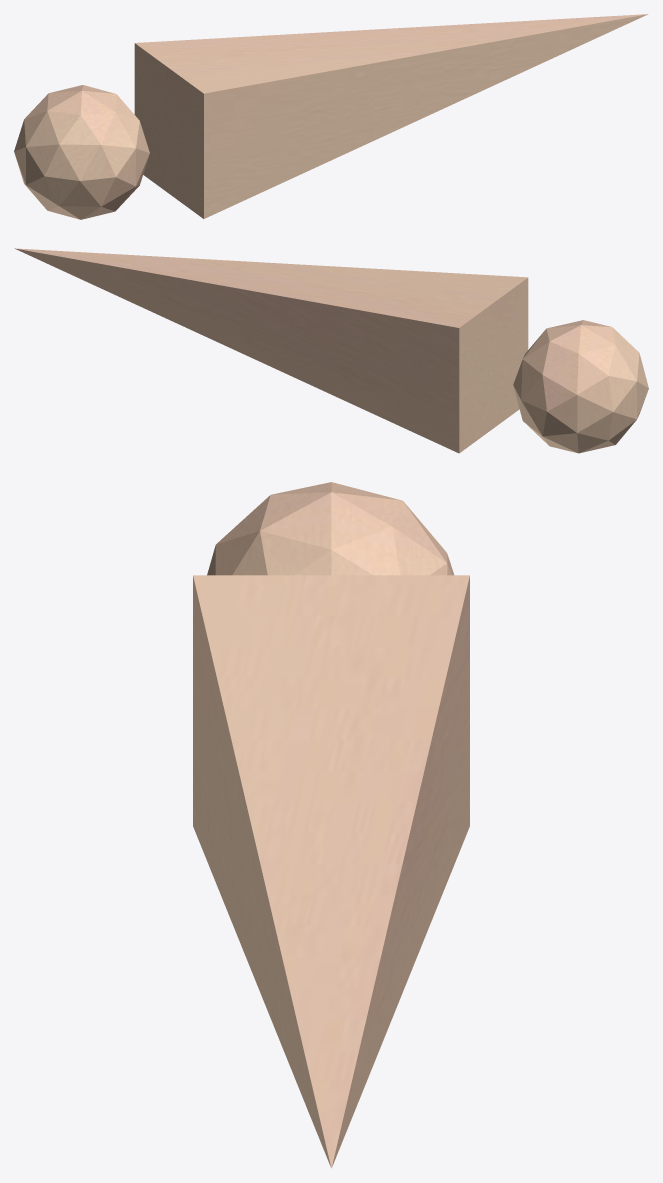
The model's file is finger.obj.
The picture shows the model from 3 angles, top to bottom: view 1: azimuth 30°, elevation 25°; view 2: azimuth 150°, elevation 25°; view 3: azimuth 270°, elevation 25°; orthographic projection. The views are drawn at different scales.
Visible parts, largest first — view 1: Cube_Cube.002, Icosphere.001; view 2: Cube_Cube.002, Icosphere.001; view 3: Cube_Cube.002, Icosphere.001.
Part boxes in pixels (<box>): Cube_Cube.002: <box>134,14,648,218</box>; Icosphere.001: <box>14,85,149,219</box>; Cube_Cube.002: <box>14,248,528,453</box>; Icosphere.001: <box>513,320,648,453</box>; Cube_Cube.002: <box>193,575,469,1168</box>; Icosphere.001: <box>207,482,454,575</box>.
Size of the model in its own units: 1.1 by 0.2118 by 0.2118.
1 material, 1 textured.
